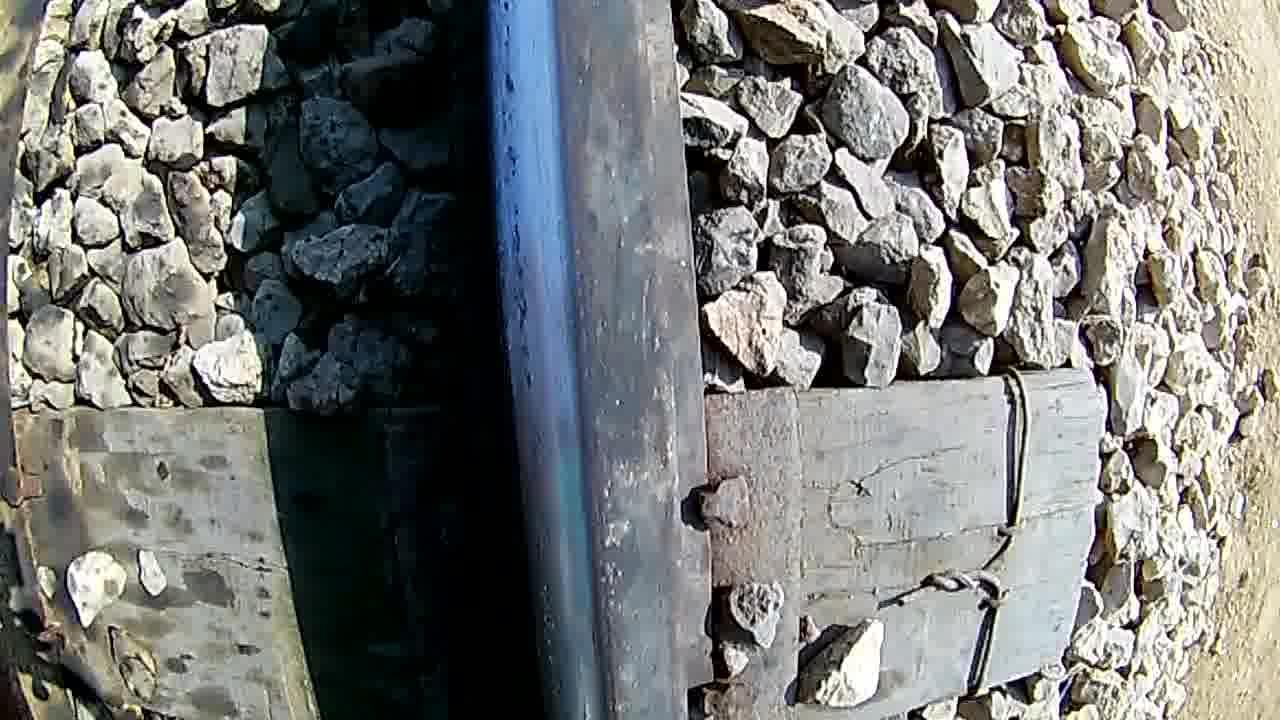crack: (483, 0, 656, 720)
